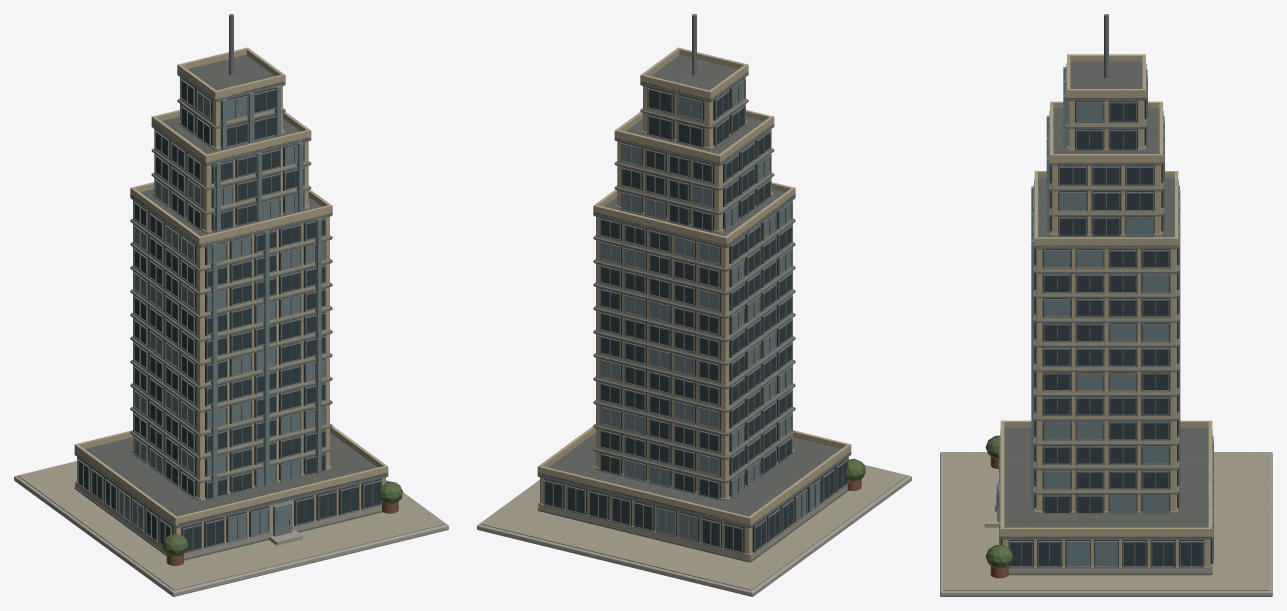
The model's file is EXP_TOWER_DECO.glb.
3 views of the same model, side by side, from view 1: azimuth 30°, elevation 25°; view 2: azimuth 150°, elevation 25°; view 3: azimuth 270°, elevation 25° (orthographic). The views are drawn at different scales.
Visible parts, largest first — view 1: EXP_TOWER_DECO_Visual; view 2: EXP_TOWER_DECO_Visual; view 3: EXP_TOWER_DECO_Visual.
Boxes of the visible parts, x1,y1,x2,y2 form: EXP_TOWER_DECO_Visual: [14, 14, 448, 596]; EXP_TOWER_DECO_Visual: [477, 14, 911, 596]; EXP_TOWER_DECO_Visual: [940, 14, 1272, 596].
Size of what is drawn, in the model's own units: 5.92 by 10.05 by 5.92.
12 materials, 8 textured.
